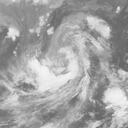cyclone: (33, 32, 87, 99)
